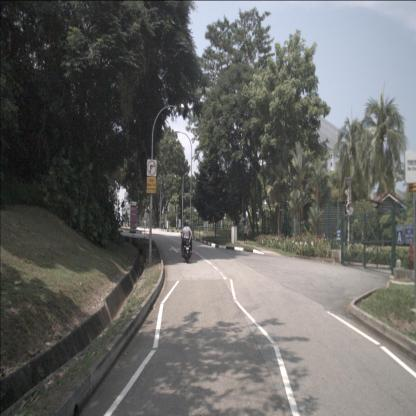human-pedestrian-adult: (240, 217, 249, 244)
vehicle-motorcycle: (181, 219, 193, 264)
